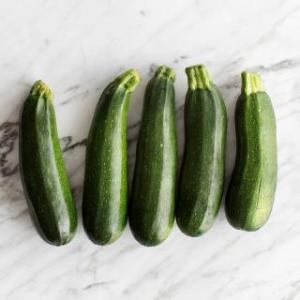zucchini: (216, 79, 284, 236), (19, 78, 75, 247), (84, 65, 132, 250), (132, 62, 174, 246), (181, 65, 225, 240)
